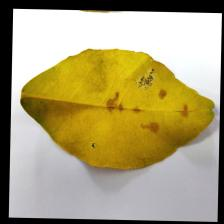black spot: (102, 94, 191, 128)
